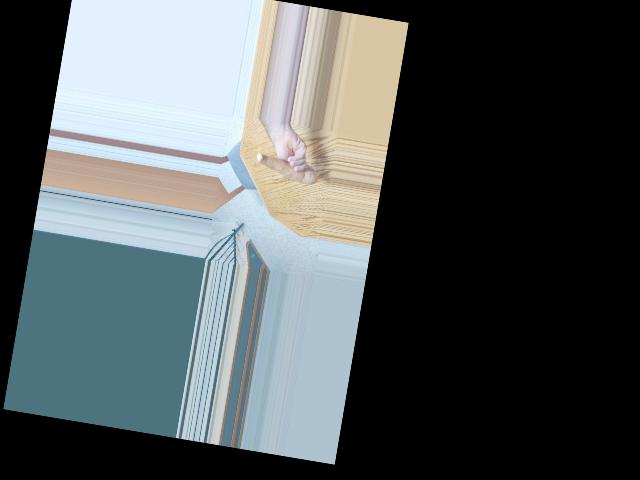sweet_potato: (256, 150, 317, 188)
